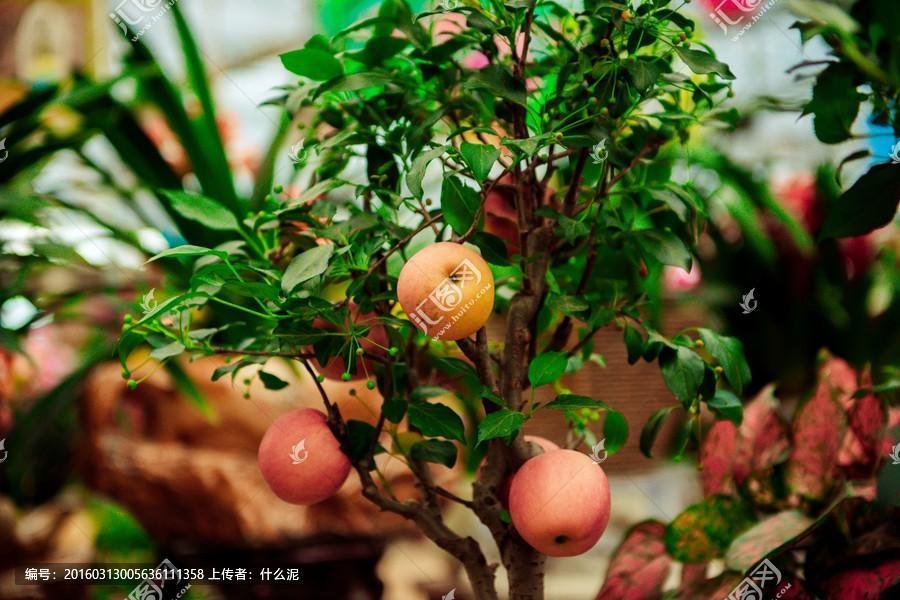apple: (509, 448, 612, 555), (397, 241, 495, 340), (257, 405, 350, 503)
